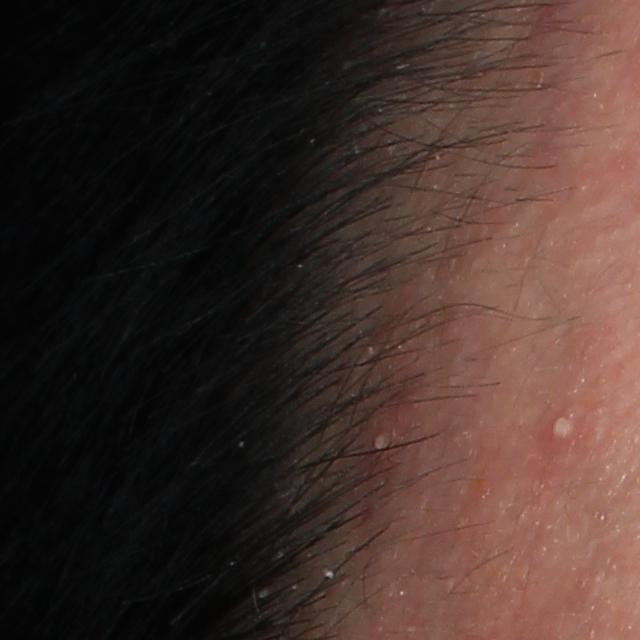pustule: (358, 419, 404, 472), (543, 398, 581, 447)
